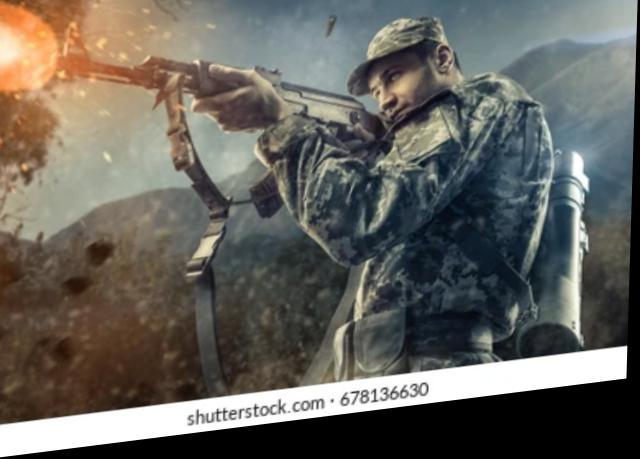other: (289, 34, 569, 359)
